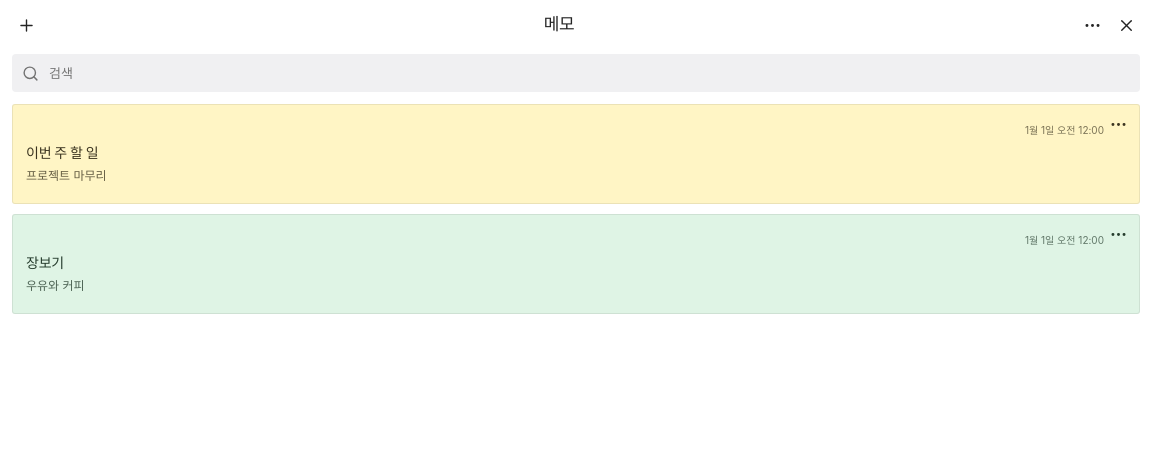
Test: NotesList › searches both the first line and body and distinguishes no results
This screenshot has width=1152, height=468.
Expected: the heading "이번 주 할 일" is shown, [26,144,98,161]
Type "커피" into the search field.
click(588, 73); type("커피")  # box [47,54,1130,92]
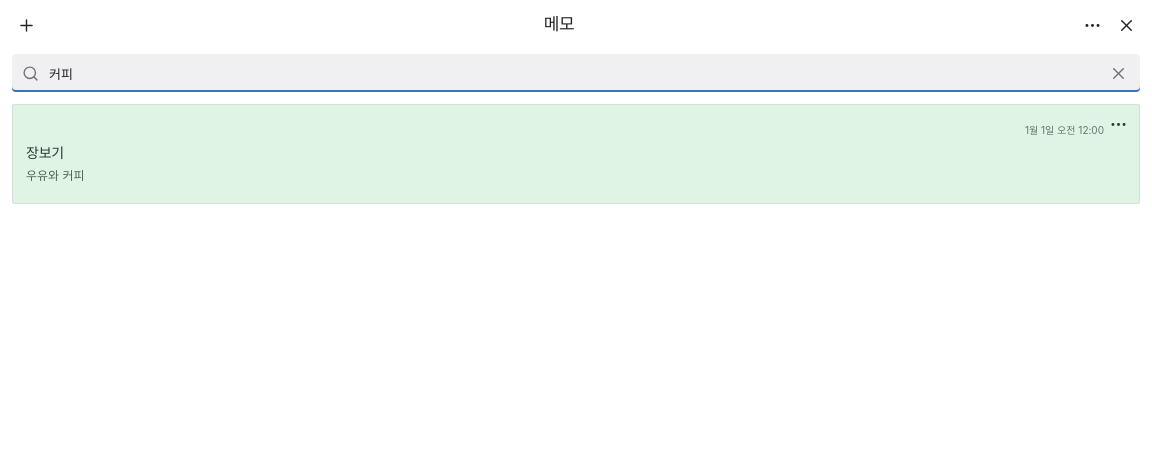
Expected: the heading "장보기" is shown, [26,144,64,161]
Now the button "이번 주 할 일" is gone
Clear the search field at (572, 73), box [47,54,1098,92]
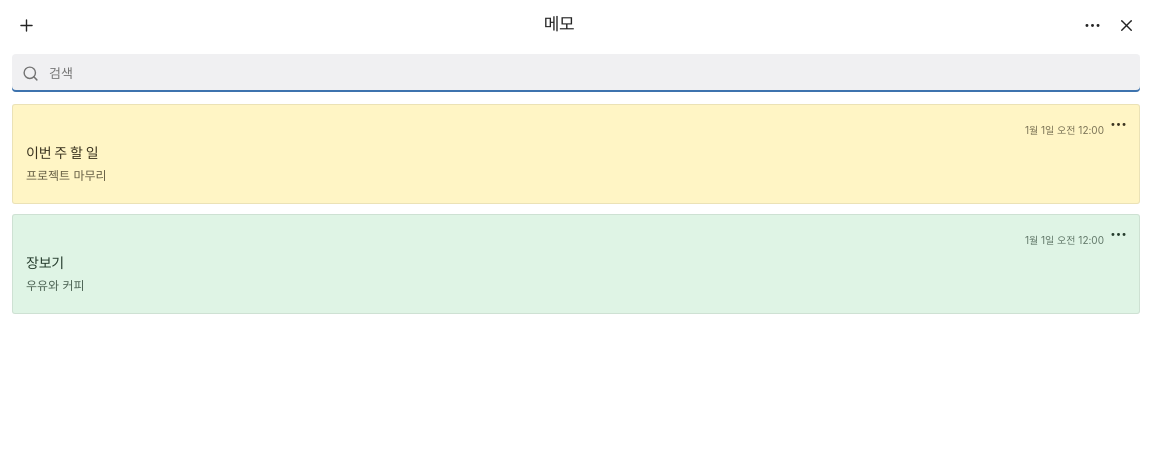
Type "없는단어" into the search field.
click(588, 73); type("없는단어")  # box [47,54,1130,92]
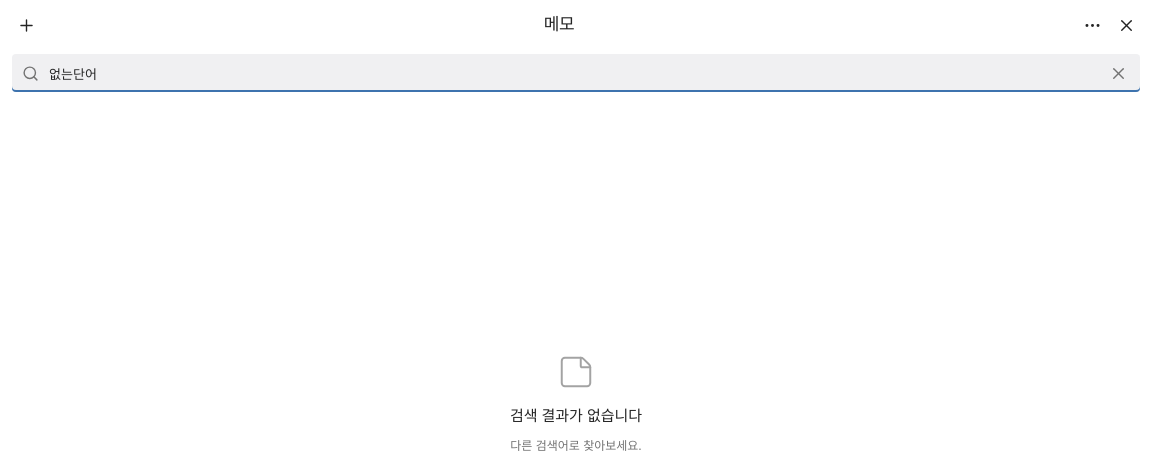
Now the heading "검색 결과가 없습니다" is shown, box [510,405,642,427]
